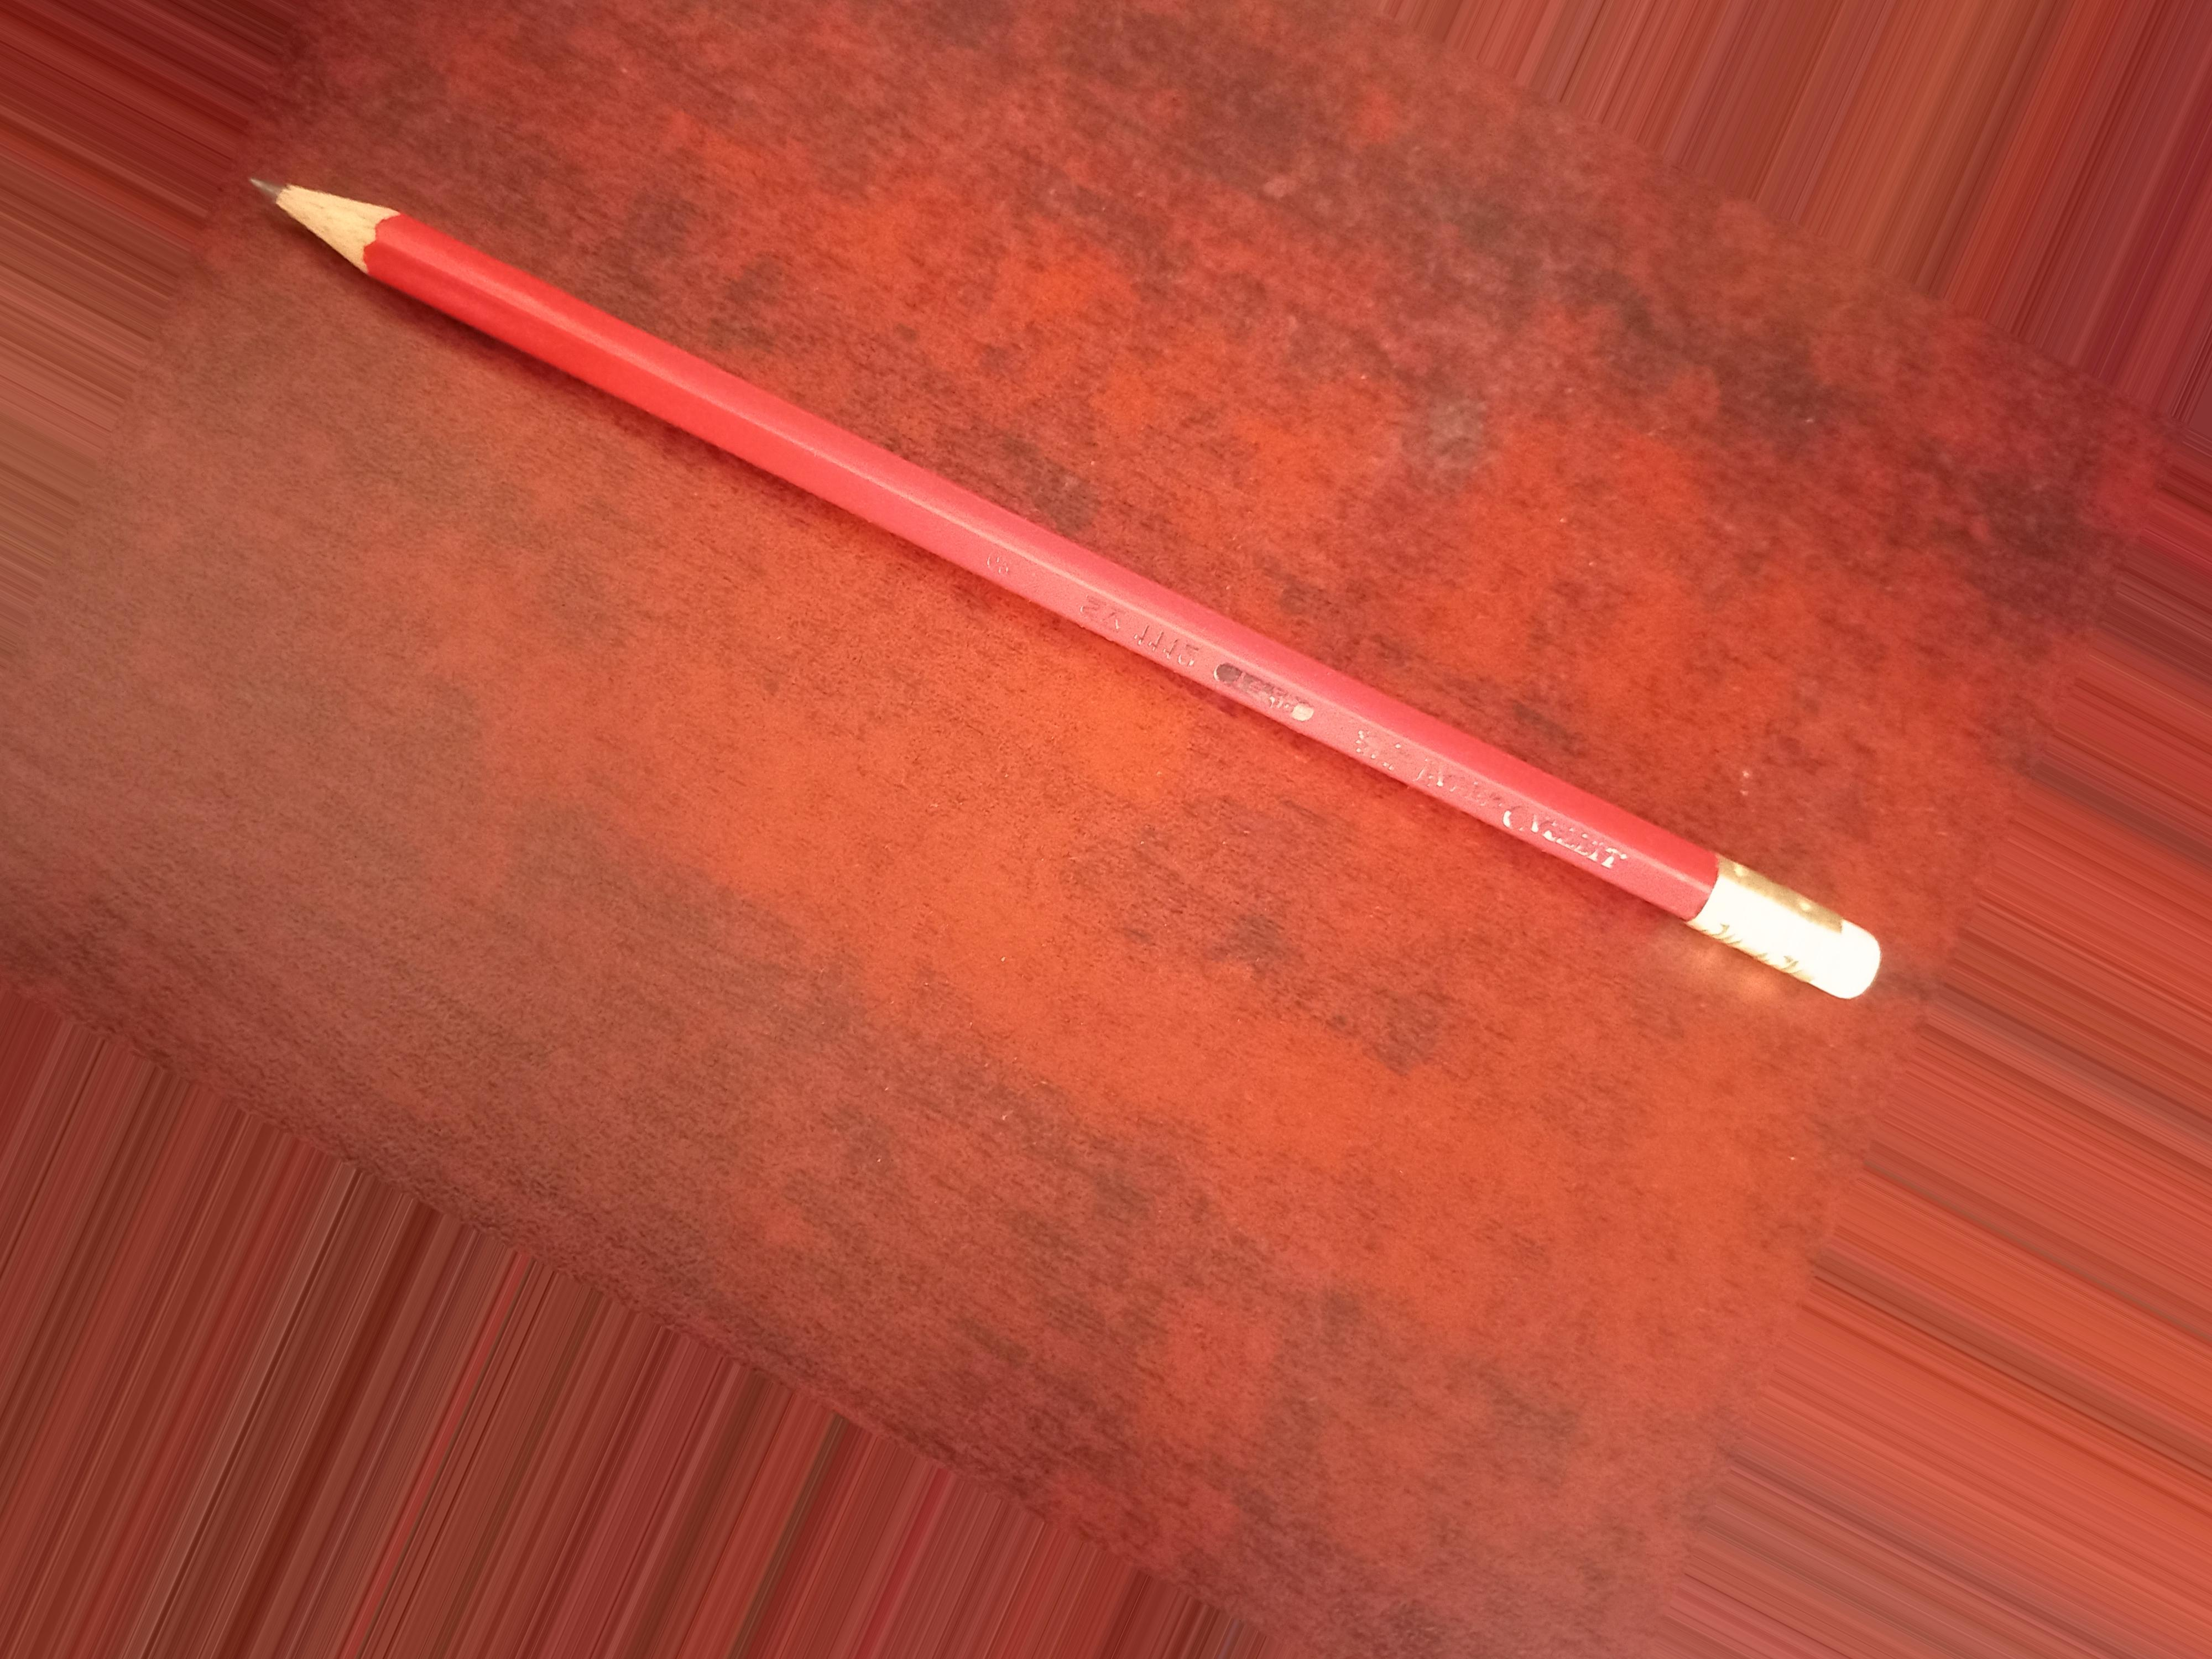pencil: (226, 110, 1303, 873)
